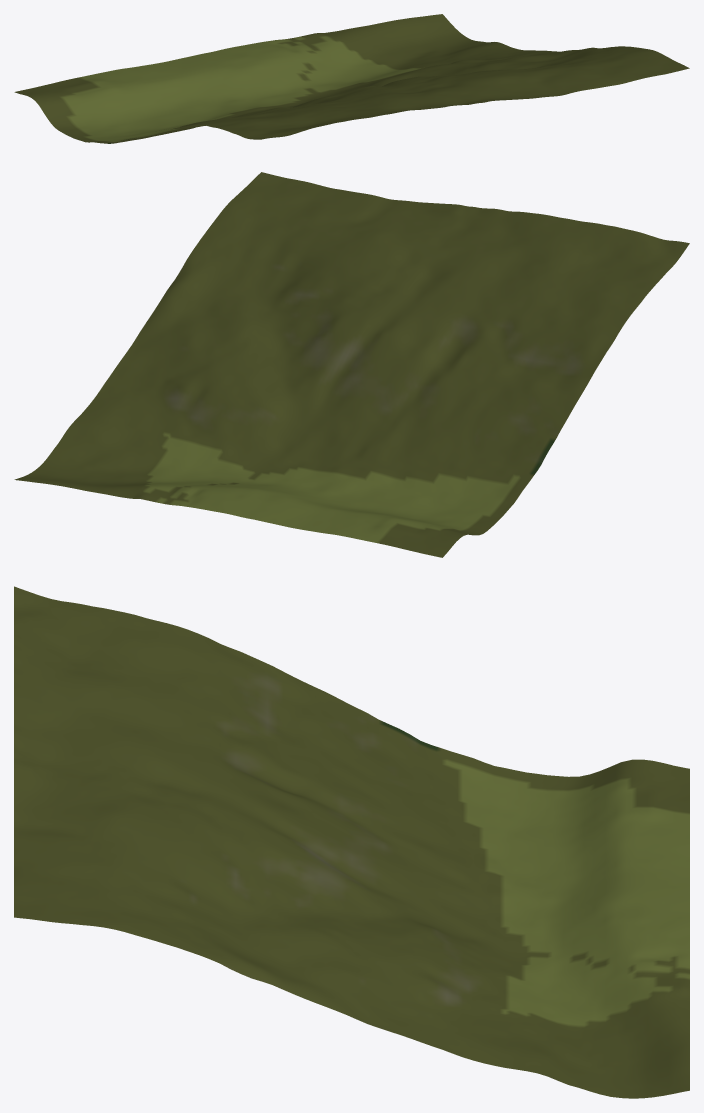
The model's file is terrain_17_-9.glb.
3 views of the same model, one above another, from view 1: azimuth 30°, elevation 25°; view 2: azimuth 150°, elevation 25°; view 3: azimuth 270°, elevation 25° (orthographic). The views are drawn at different scales.
Parts seen in each view (by area): view 1: terrain_17_-9; view 2: terrain_17_-9; view 3: terrain_17_-9.
Boxes of the visible parts, x1=… form: terrain_17_-9: x1=14, y1=14, x2=689, y2=143; terrain_17_-9: x1=14, y1=172, x2=689, y2=557; terrain_17_-9: x1=14, y1=586, x2=689, y2=1098.
Bounding box in the file's own units: 256 × 94.7 × 256.
